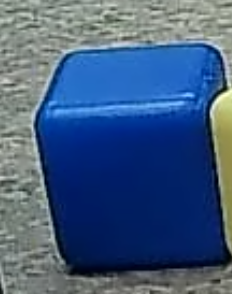blue_cube: (24, 38, 232, 280)
